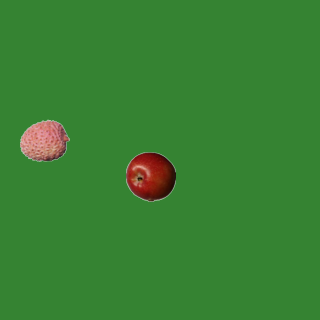Apple Braeburn: (125, 151, 175, 201)
Lychee: (19, 115, 69, 165)
